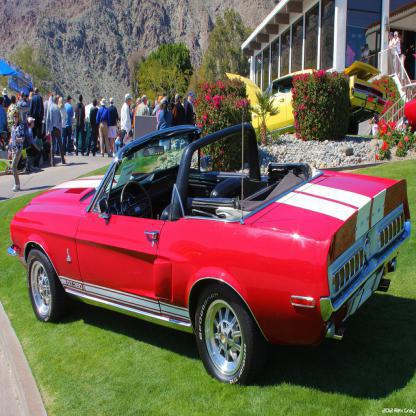car: (7, 107, 413, 386), (229, 72, 393, 134)
